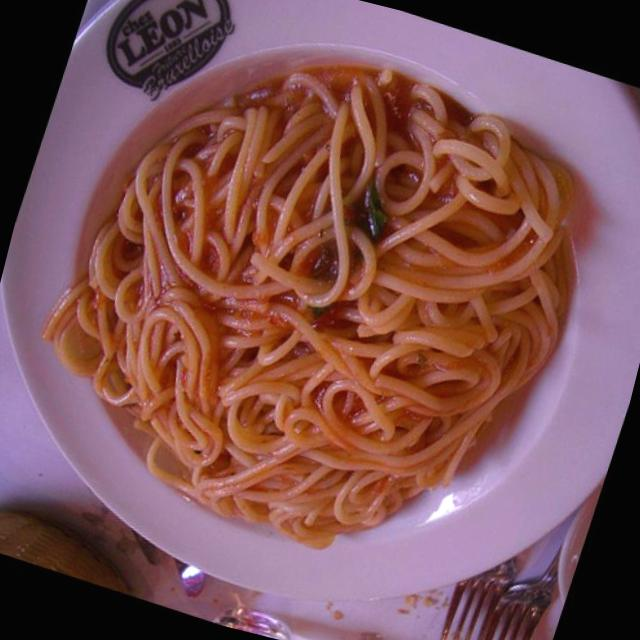Pasta: (13, 0, 629, 601)
